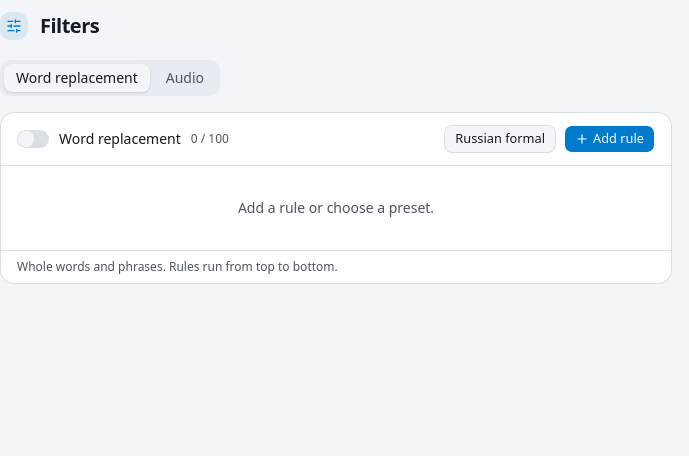
Test: FilterSettings › shows factory preset labels in the active UI language
Press the mouse on the tab "Audio" at (185, 78), box 154,64 -> 216,92
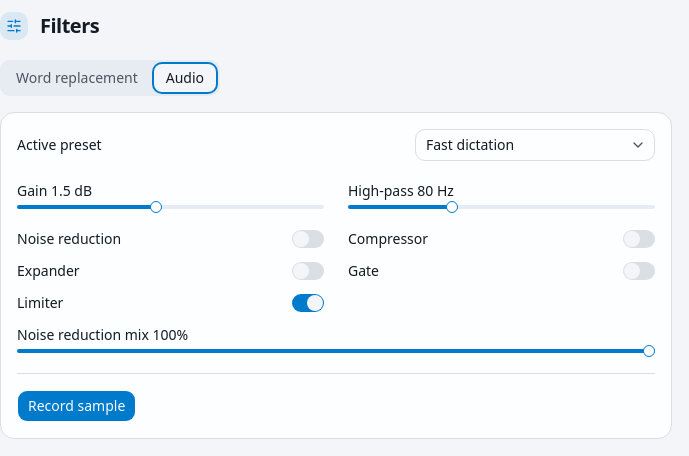
Expected: the dropdown named "Active preset" reads "Fast dictation", 415,129 -> 655,161
